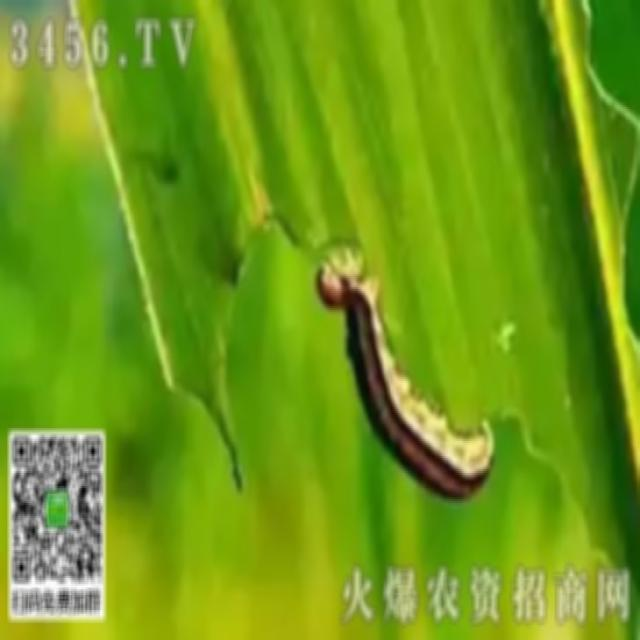army worm: (309, 250, 508, 511)
